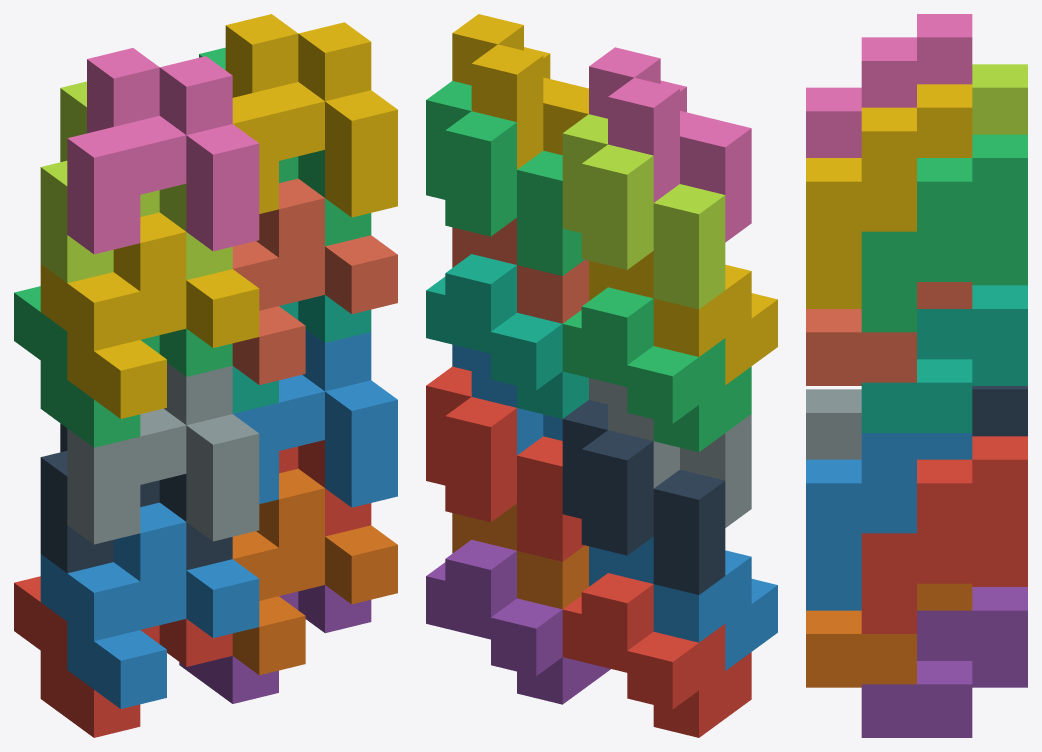
The model's file is tiling.obj.
The picture shows the model from 3 angles, left to right: view 1: azimuth 30°, elevation 25°; view 2: azimuth 150°, elevation 25°; view 3: azimuth 270°, elevation 25°; orthographic projection. The views are drawn at different scales.
Visible parts, largest first — view 1: copy_2_domain_4, copy_2_domain_8, copy_1_domain_4, copy_1_domain_2, copy_2_domain_2, copy_1_domain_8, copy_1_domain_6, copy_2_domain_6, copy_1_domain_3, copy_1_domain_1, copy_2_domain_3, copy_2_domain_1 (+4 smaller); view 2: copy_2_domain_3, copy_2_domain_1, copy_2_domain_5, copy_2_domain_7, copy_1_domain_1, copy_1_domain_3, copy_2_domain_4, copy_1_domain_5, copy_1_domain_7, copy_2_domain_8, copy_1_domain_2, copy_1_domain_4 (+4 smaller); view 3: copy_2_domain_5, copy_2_domain_7, copy_2_domain_8, copy_1_domain_5, copy_1_domain_7, copy_2_domain_6, copy_2_domain_4, copy_1_domain_6, copy_1_domain_8, copy_2_domain_2, copy_2_domain_3, copy_2_domain_1 (+4 smaller).
Boxes of the visible parts, x1=… form: copy_2_domain_4: x1=67, y1=48, x2=259, y2=254; copy_2_domain_8: x1=225, y1=14, x2=397, y2=217; copy_1_domain_4: x1=40, y1=212, x2=259, y2=418; copy_1_domain_2: x1=40, y1=502, x2=259, y2=708; copy_2_domain_2: x1=67, y1=363, x2=259, y2=544; copy_1_domain_8: x1=232, y1=178, x2=397, y2=384; copy_1_domain_6: x1=232, y1=468, x2=397, y2=675; copy_2_domain_6: x1=233, y1=329, x2=397, y2=507; copy_1_domain_3: x1=14, y1=286, x2=232, y2=447; copy_1_domain_1: x1=14, y1=576, x2=232, y2=737; copy_2_domain_3: x1=40, y1=81, x2=232, y2=283; copy_2_domain_1: x1=40, y1=423, x2=232, y2=573; copy_2_domain_3: x1=562, y1=114, x2=725, y2=309; copy_2_domain_1: x1=562, y1=400, x2=725, y2=594; copy_2_domain_5: x1=426, y1=366, x2=584, y2=561; copy_2_domain_7: x1=426, y1=81, x2=584, y2=275; copy_1_domain_1: x1=562, y1=573, x2=751, y2=737; copy_1_domain_3: x1=562, y1=287, x2=751, y2=452; copy_2_domain_4: x1=589, y1=47, x2=751, y2=242; copy_1_domain_5: x1=426, y1=539, x2=610, y2=704; copy_1_domain_7: x1=426, y1=254, x2=588, y2=418; copy_2_domain_8: x1=452, y1=14, x2=588, y2=169; copy_1_domain_2: x1=589, y1=536, x2=777, y2=670; copy_1_domain_4: x1=589, y1=251, x2=777, y2=384; copy_2_domain_5: x1=861, y1=436, x2=1027, y2=633; copy_2_domain_7: x1=861, y1=134, x2=1027, y2=332; copy_2_domain_8: x1=806, y1=84, x2=972, y2=281; copy_1_domain_5: x1=861, y1=587, x2=1027, y2=737; copy_1_domain_7: x1=861, y1=285, x2=1027, y2=432; copy_2_domain_6: x1=806, y1=433, x2=972, y2=583; copy_2_domain_4: x1=806, y1=14, x2=972, y2=157; copy_1_domain_6: x1=806, y1=583, x2=972, y2=687; copy_1_domain_8: x1=806, y1=282, x2=972, y2=385; copy_2_domain_2: x1=806, y1=389, x2=861, y2=459; copy_2_domain_3: x1=972, y1=64, x2=1027, y2=134; copy_2_domain_1: x1=972, y1=386, x2=1027, y2=436.
Size of the model in its own units: 6 by 13 by 4.
